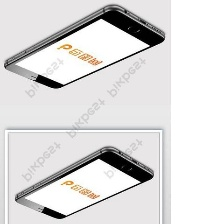phone: (2, 2, 169, 92), (12, 144, 157, 222)
